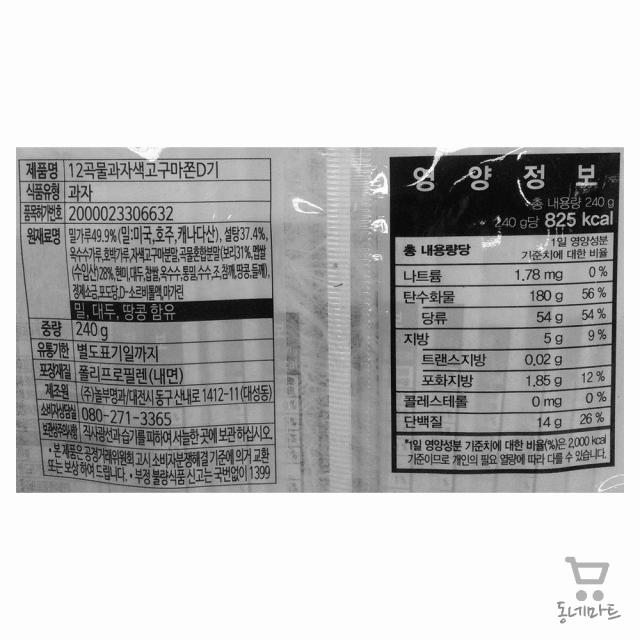Nutrition Label: (379, 144, 628, 479)
